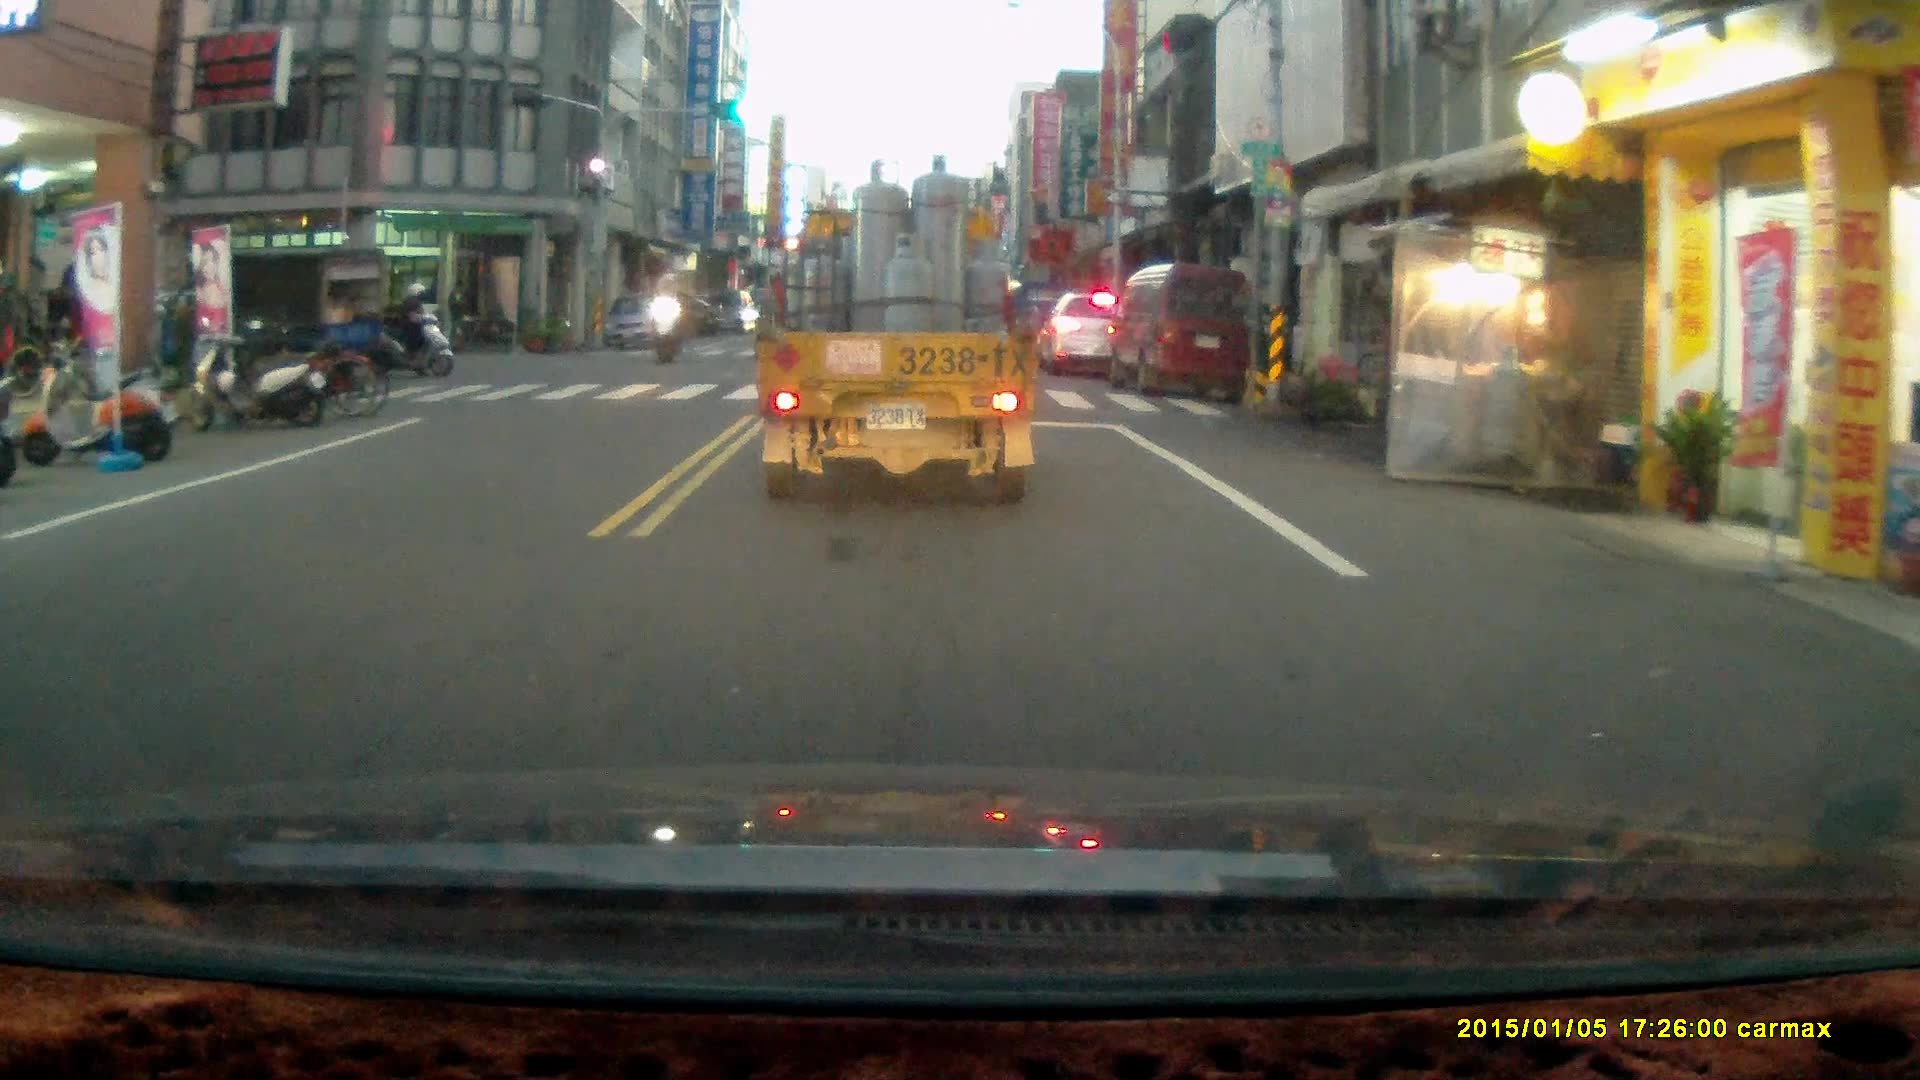pedestrian: (51, 258, 87, 367), (444, 275, 470, 353)
rider: (378, 283, 457, 384), (642, 268, 690, 366)
vehicle: (753, 163, 1030, 513), (125, 247, 392, 395), (1105, 264, 1257, 409), (1045, 290, 1133, 379), (604, 292, 679, 352), (697, 284, 757, 333)
